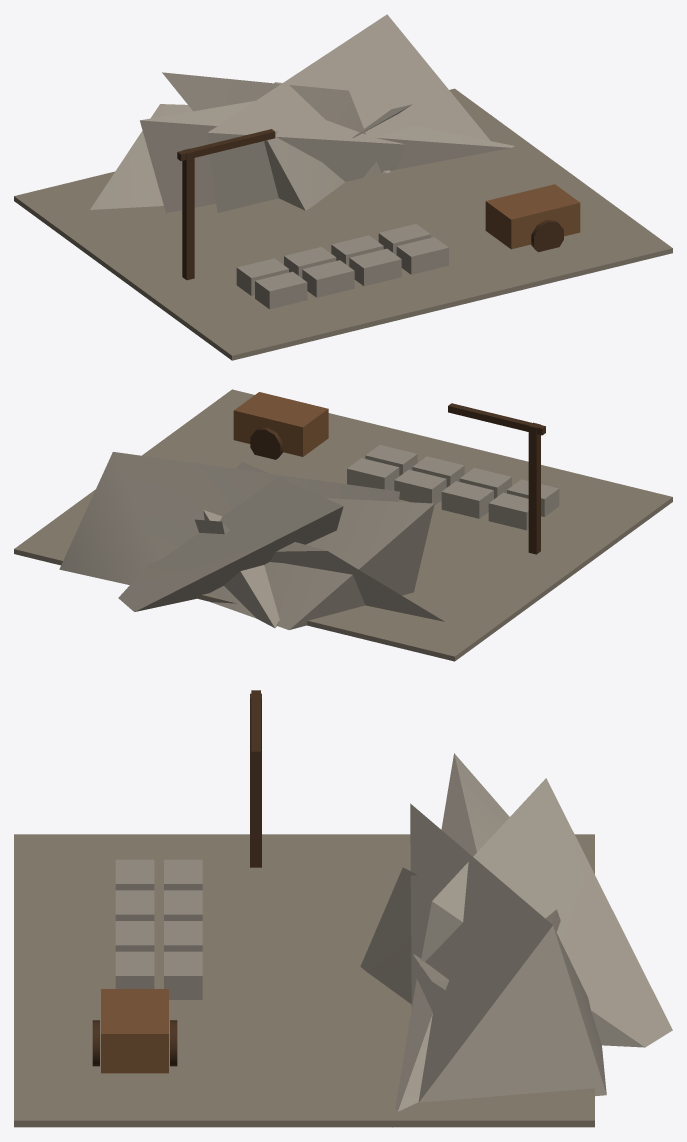
Rendered from quarry.glb.
The picture shows the model from 3 angles, top to bottom: view 1: azimuth 30°, elevation 25°; view 2: azimuth 150°, elevation 25°; view 3: azimuth 270°, elevation 25°; orthographic projection. The views are drawn at different scales.
Parts seen in each view (by area): view 1: Quarry; view 2: Quarry; view 3: Quarry.
Boxes of the visible parts, x1,y1,x2,y2 form: Quarry: (14,14,672,360); Quarry: (14,389,672,661); Quarry: (14,690,672,1127).
Size of the model in its own units: 14.01 by 4 by 13.61.
